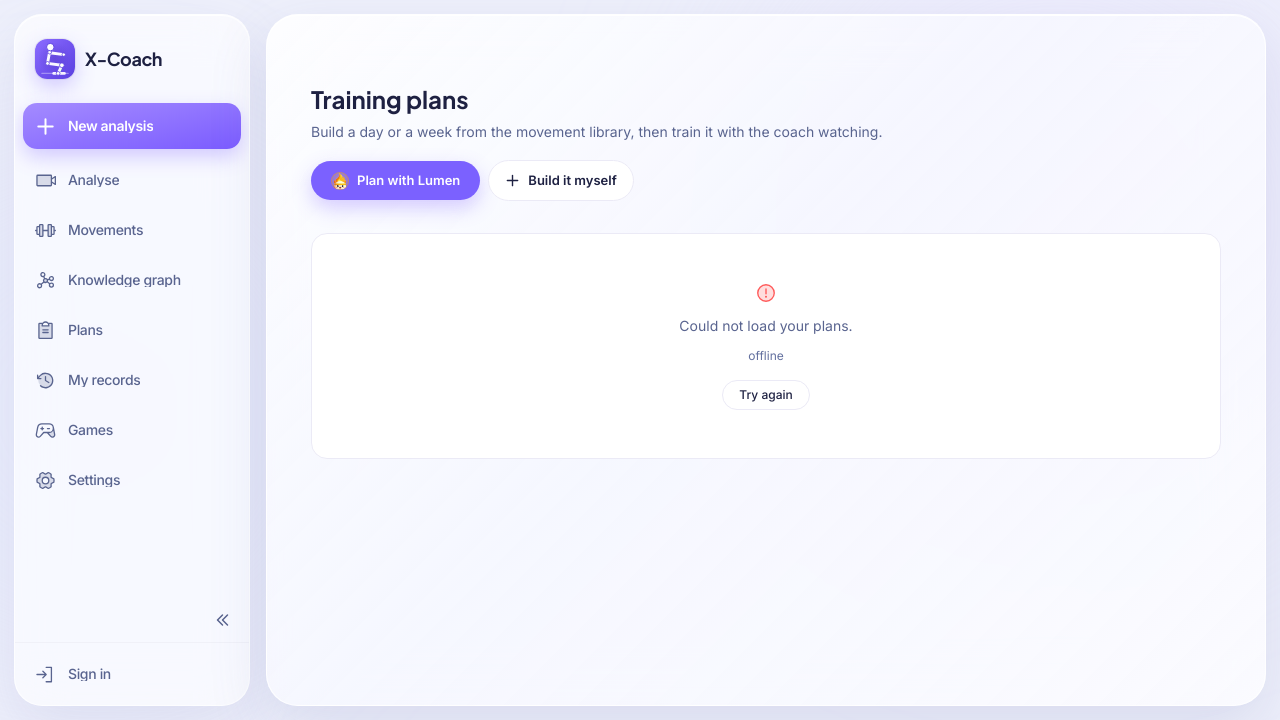
Test: Plans — listing › surfaces a load failure with a retry that refetches
Expected: the text "Could not load your plans." is shown, [679,316,853,336]
Click the button "Try again". click: (766, 395)
box: [722,380,810,410]
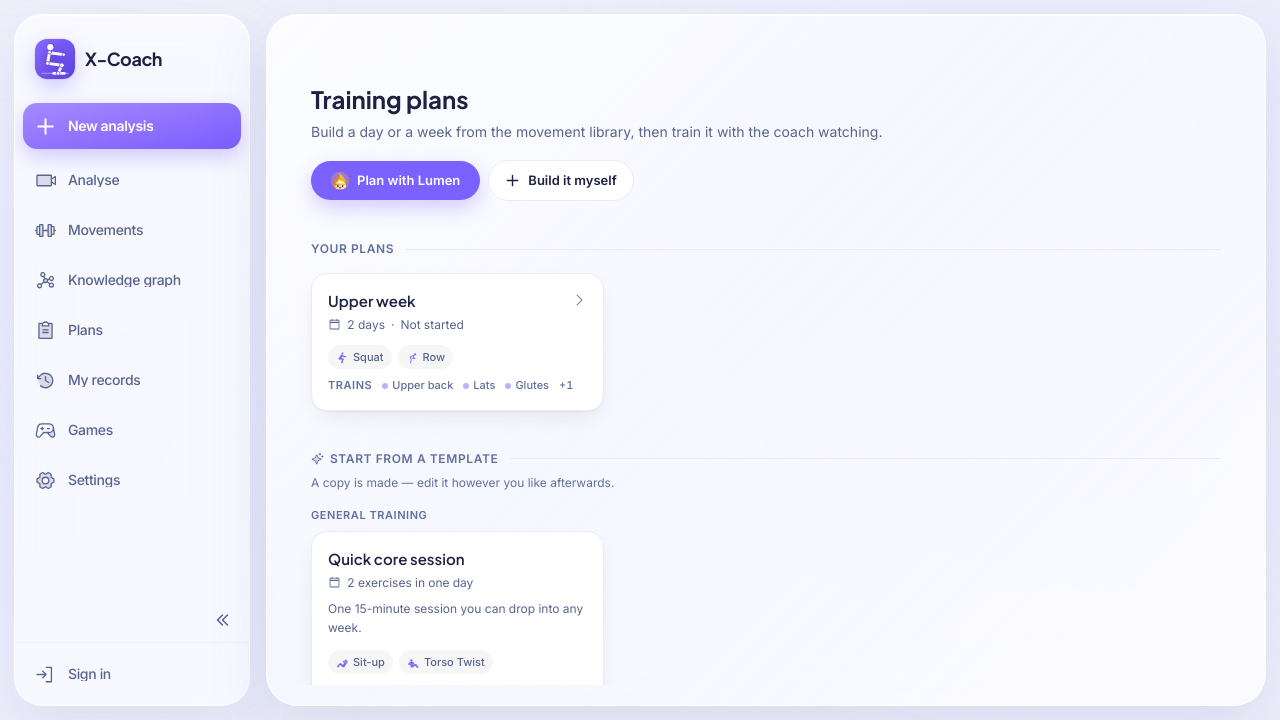
Expected: the heading "Upper week" is shown, [328,291,416,310]
